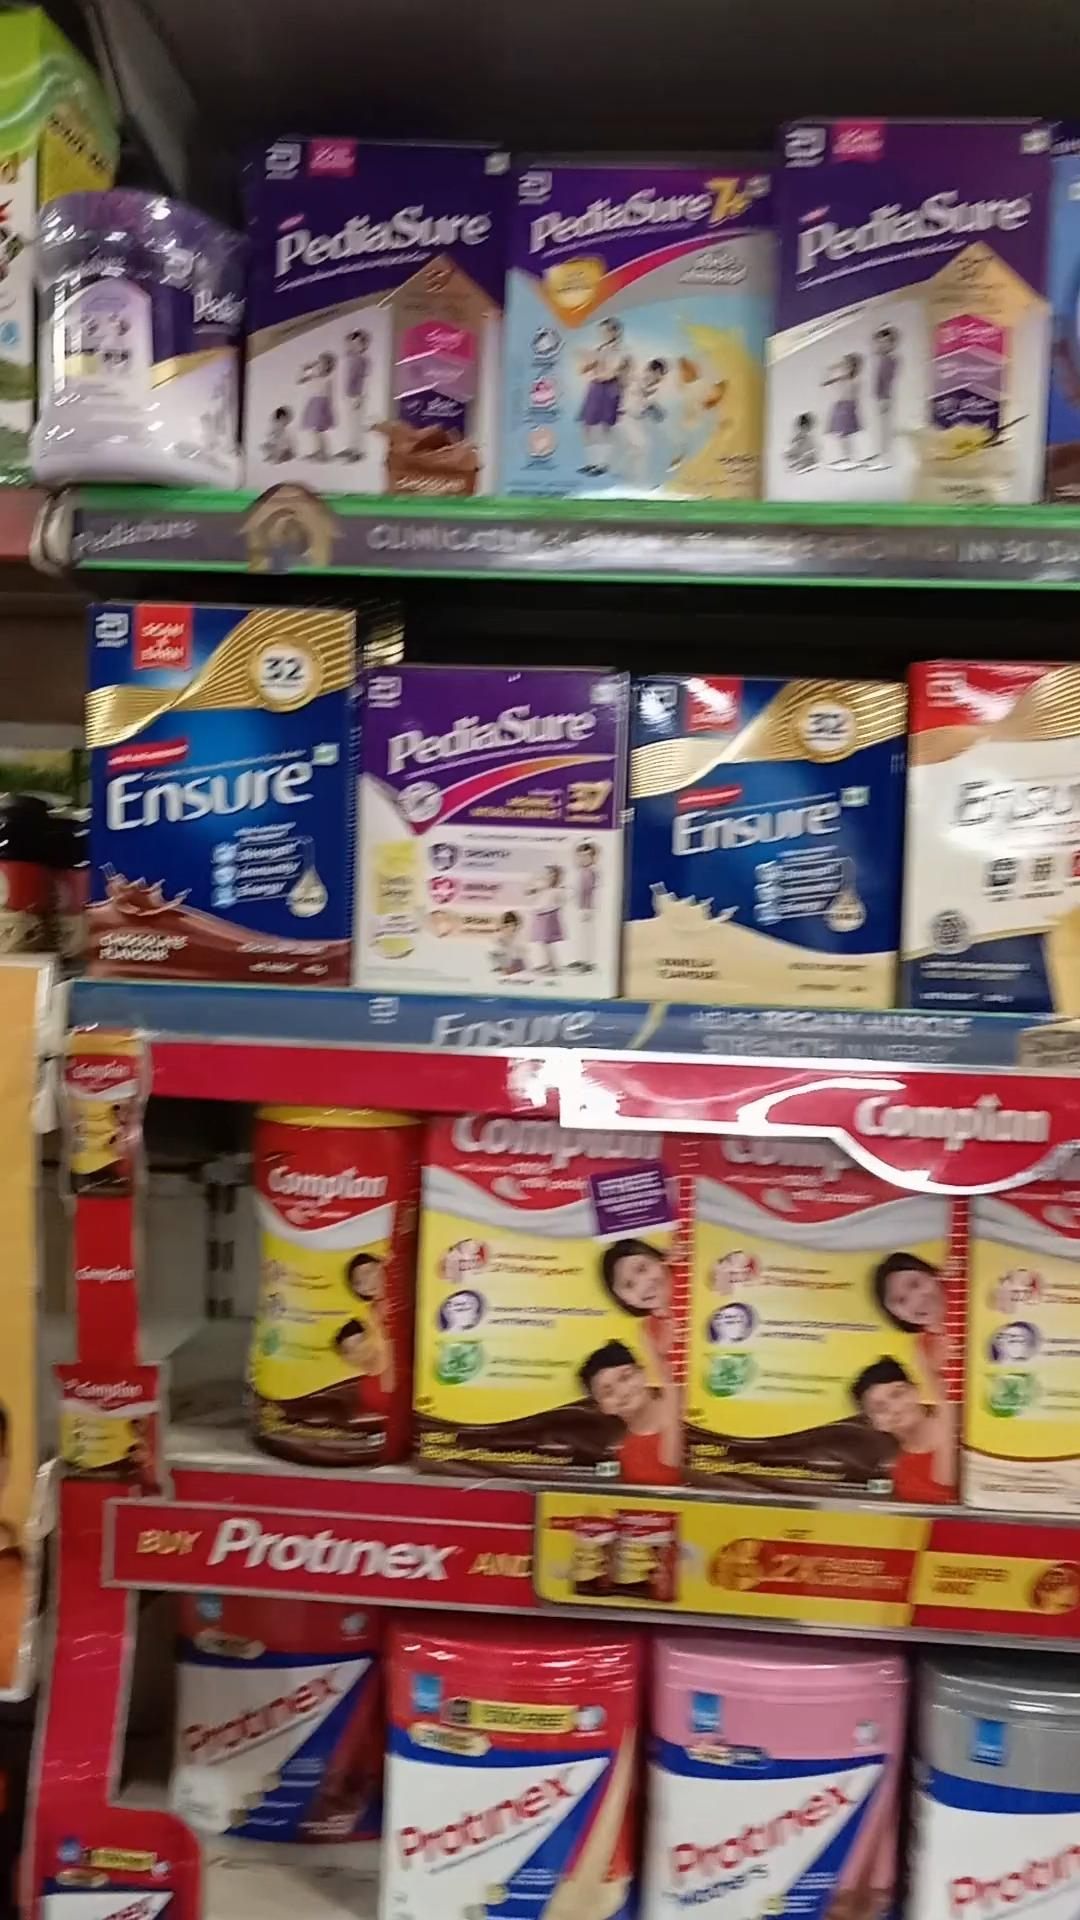COMPLAN_CHOCOLATE_500_GMS_JAR: (244, 1105, 411, 1461)
COMPLAN_CHOCOLATE_500_GMS_PACK: (421, 1118, 683, 1477), (692, 1162, 956, 1498)
ENSURE_VANILLA_400_G_PACK: (626, 683, 897, 1006)
PEDIASURE_CHOCOLATE_500_G_PACK: (243, 140, 498, 495)
PEDIASURE_VANILLA_500_G_PACK: (767, 127, 1050, 505)
PROTINEX_CHOCOLATE_400_G_JAR: (175, 1594, 380, 1838)
PROTINEX_VANILLA_400_G_JAR: (385, 1631, 625, 1920)
